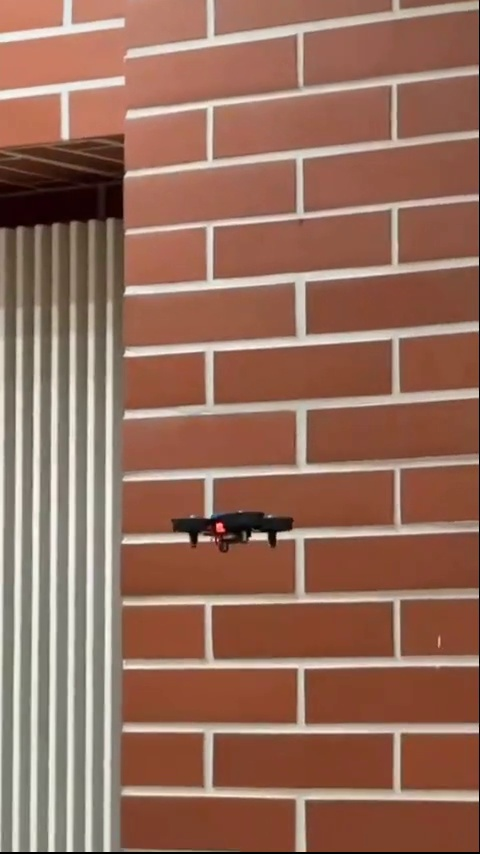drone: (172, 501, 300, 556)
